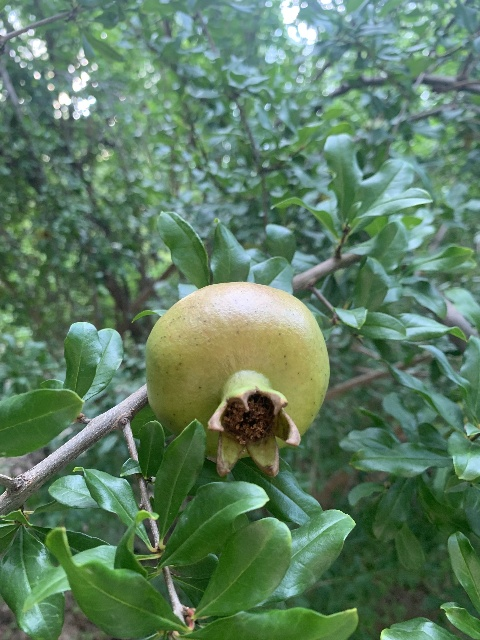mid-growth: (145, 281, 331, 479)
